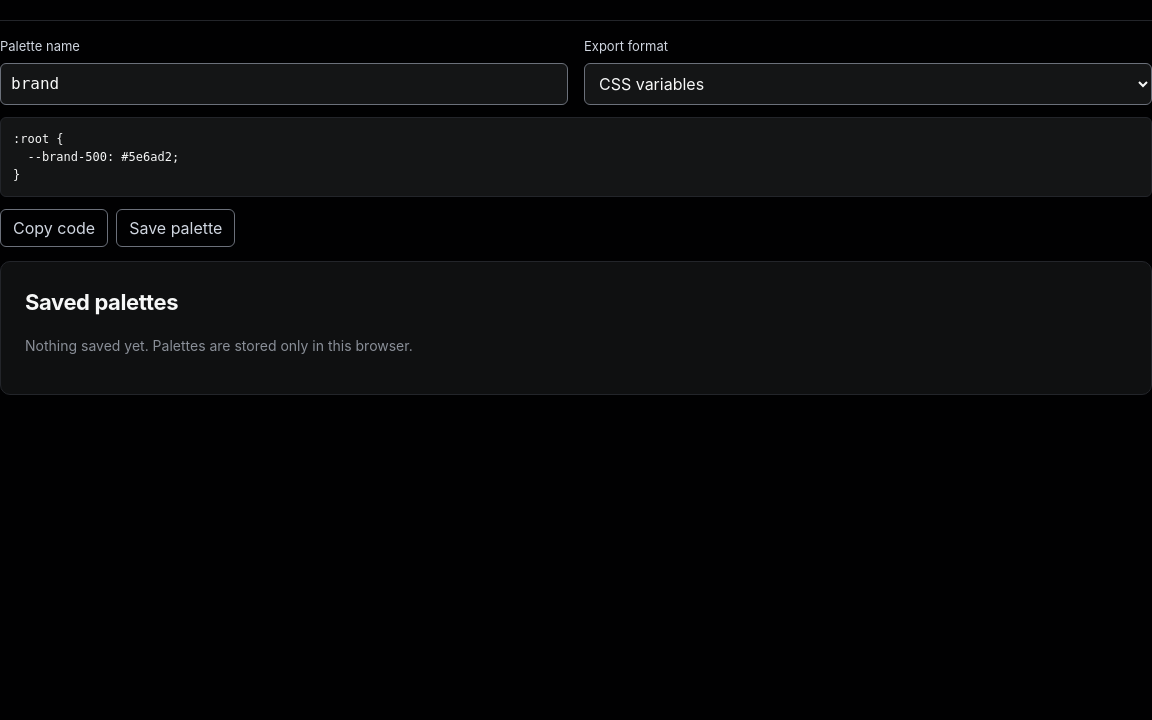
it: export and saved palettes › saves, persists and deletes a palette
The width and height of the screenshot is (1152, 720).
Replace the text in the field labelled "Palette name" with "Ocean". click: (284, 84)
box: [0,62,568,104]
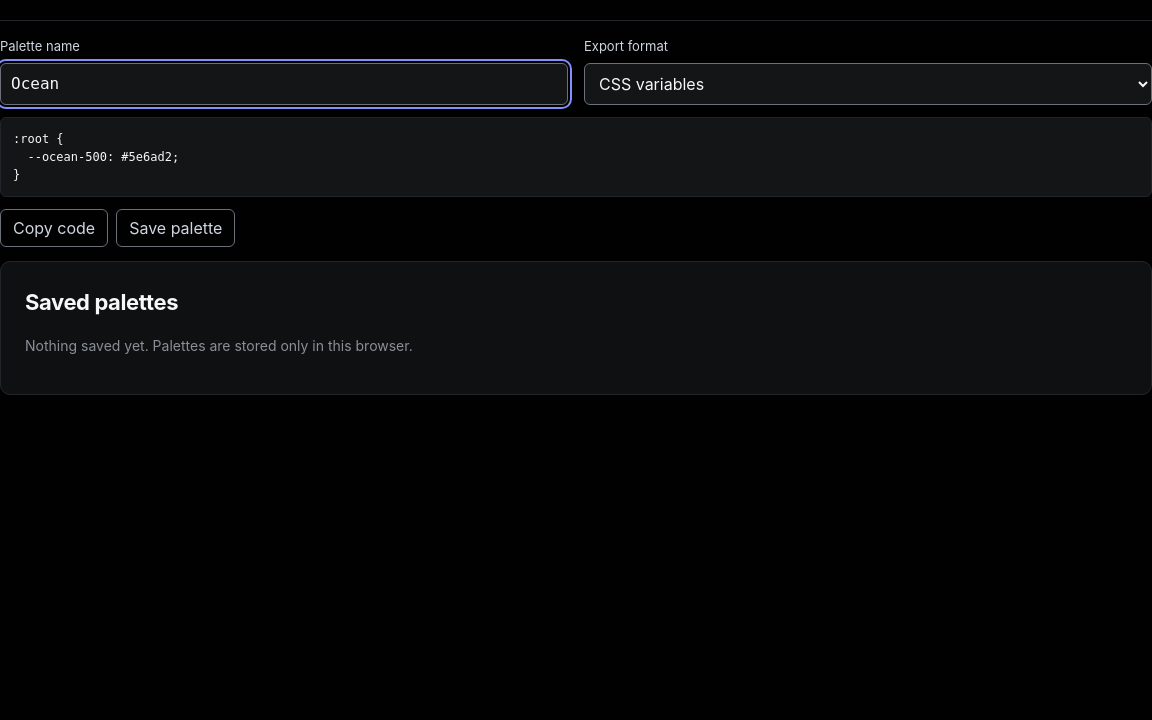
Click the button "Save palette". click: (176, 228)
box: [116,208,235,246]
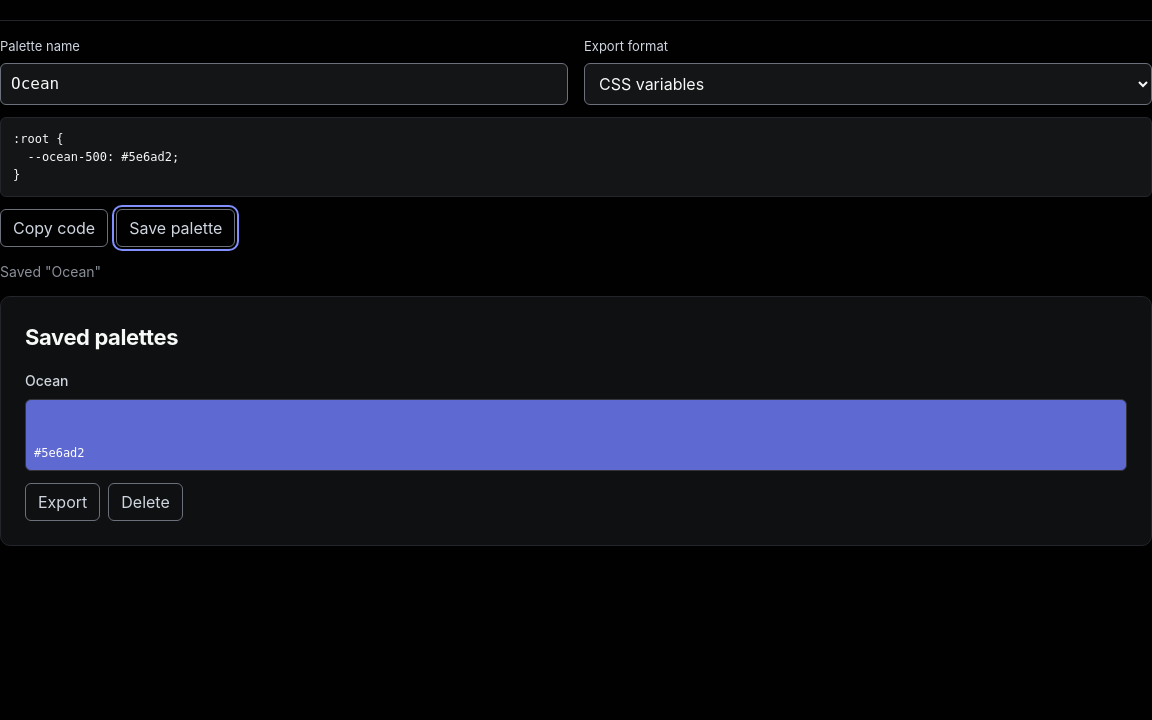
Check: the heading "Ocean" is shown, box [25,372,68,388]
Click the button with aria-label "Export Ocean". click: (63, 502)
box: [25,482,100,520]
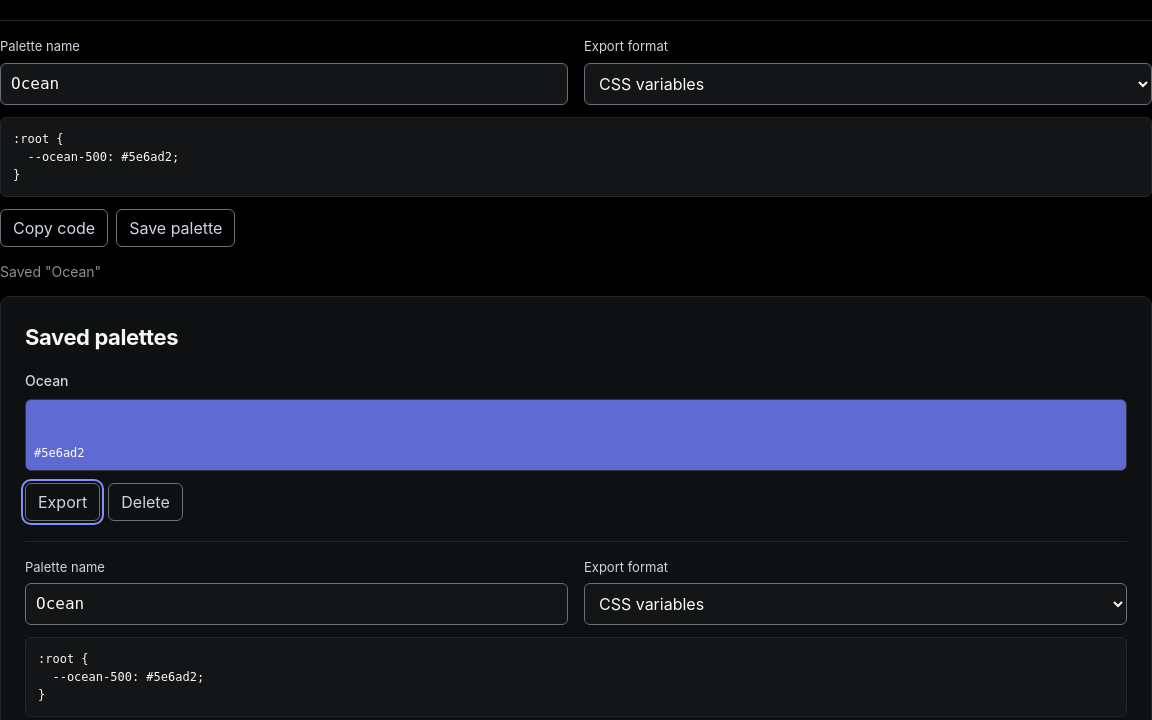
Check: the element named "CSS variables code" shows "--ocean-500", box [38,652,204,702]
Click the button with aria-label "Delete Ocean". click: (146, 502)
box: [108,482,183,520]
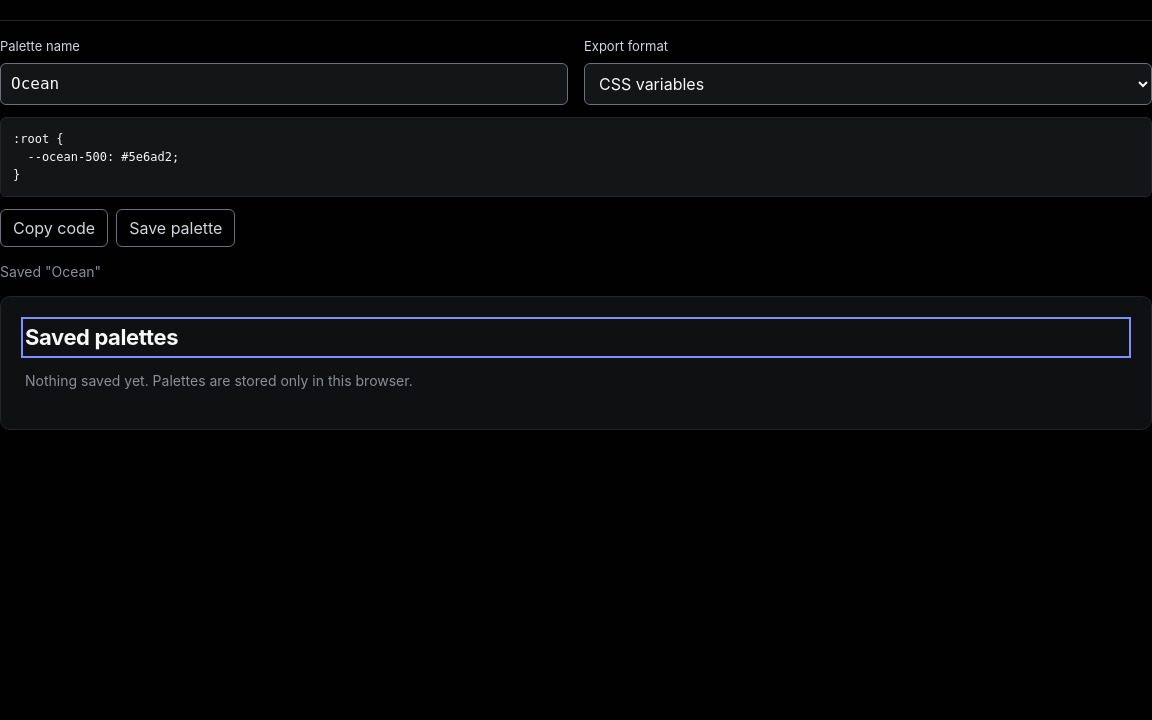
Check: the text "Nothing saved yet. Palettes are stored only in this browser." is shown, box [25,372,413,388]
